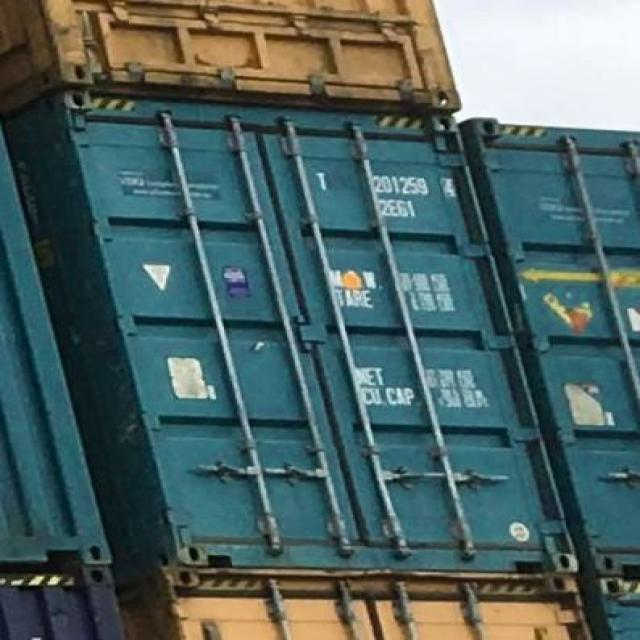ISO: (383, 199, 421, 221)
container_number: (318, 172, 459, 194)
